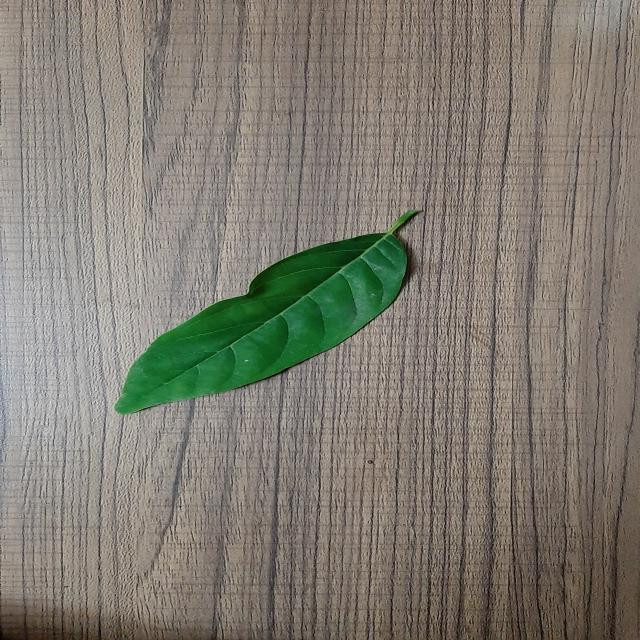seethaphala: (117, 210, 417, 414)
